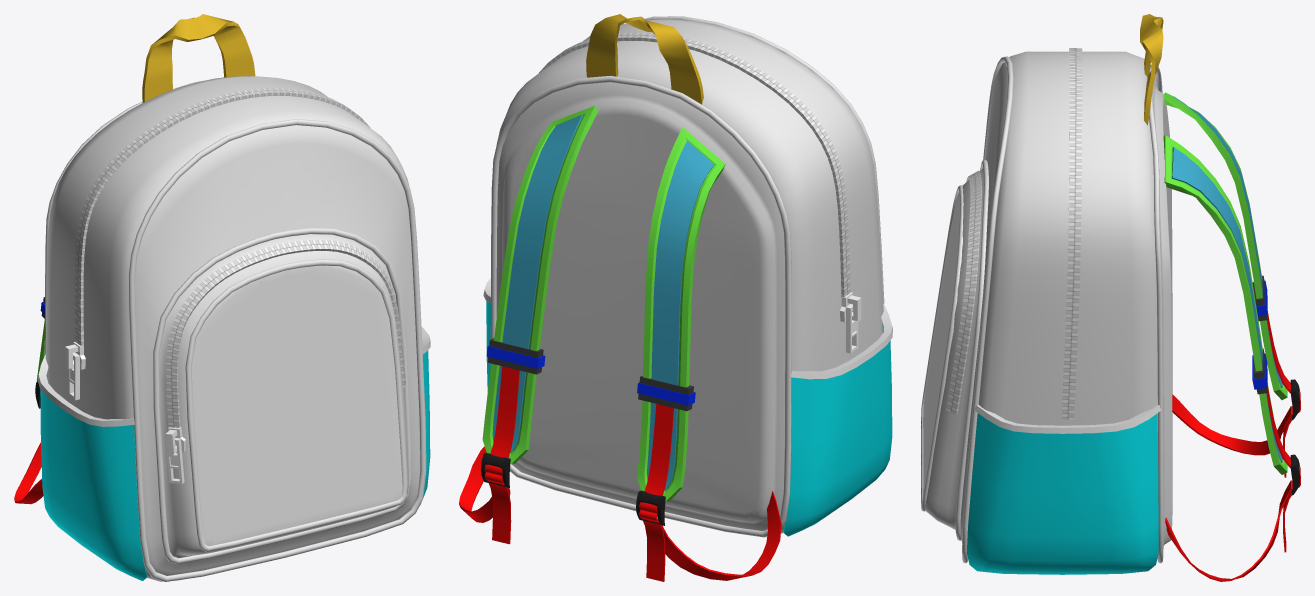
Rendered from ranac (1).FBX.
3 renders of one model, left to right at view 1: azimuth 30°, elevation 25°; view 2: azimuth 150°, elevation 25°; view 3: azimuth 270°, elevation 25°, orthographic. The views are drawn at different scales.
Parts seen in each view (by area): view 1: Box001, Shape001, Object001, Shape007; view 2: Box001, Object001, Shape001, Shape007; view 3: Box001, Object001, Shape001, Shape007.
Boxes of the visible parts, x1,y1,x2,y2 form: Box001: (45,76,420,581); Shape001: (37,77,430,581); Object001: (14,14,430,580); Shape007: (65,88,405,484); Box001: (496,19,883,533); Object001: (459,14,892,581); Shape001: (483,16,892,537); Shape007: (539,33,861,353); Box001: (923,51,1172,559); Object001: (966,14,1300,581); Shape001: (921,56,1163,563); Shape007: (946,48,1082,419).
Size of the model in its own units: 105 by 137 by 95.03.
